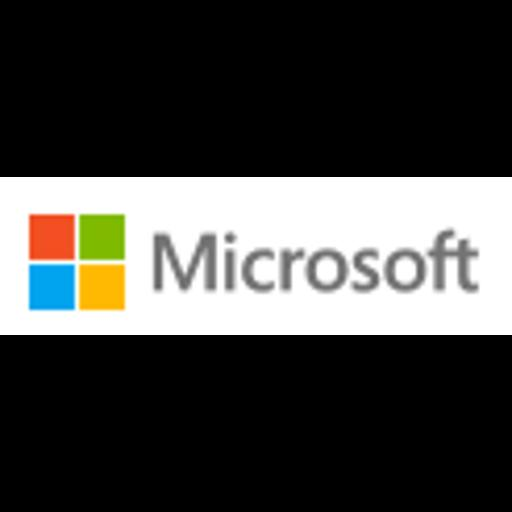Outlook: (0, 177, 512, 335)
